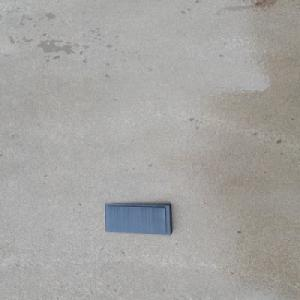PlasticPart: (102, 202, 173, 235)
